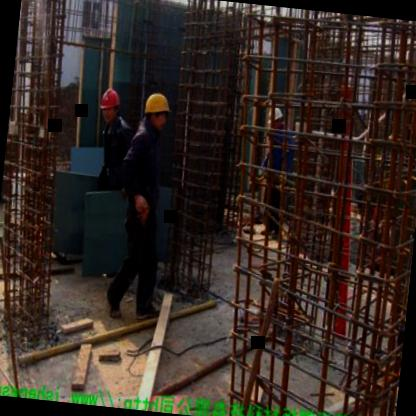helmet: (142, 90, 173, 135), (98, 85, 121, 127), (262, 103, 286, 137)
